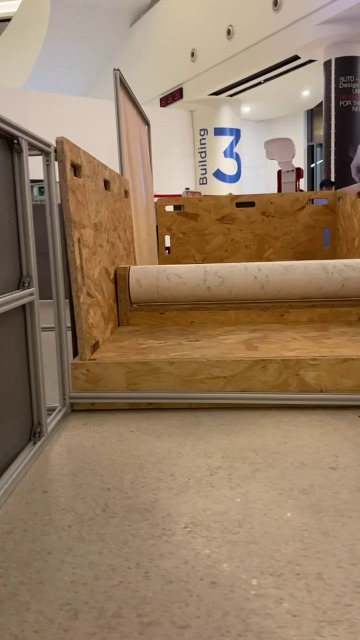curtain: (112, 64, 162, 269)
